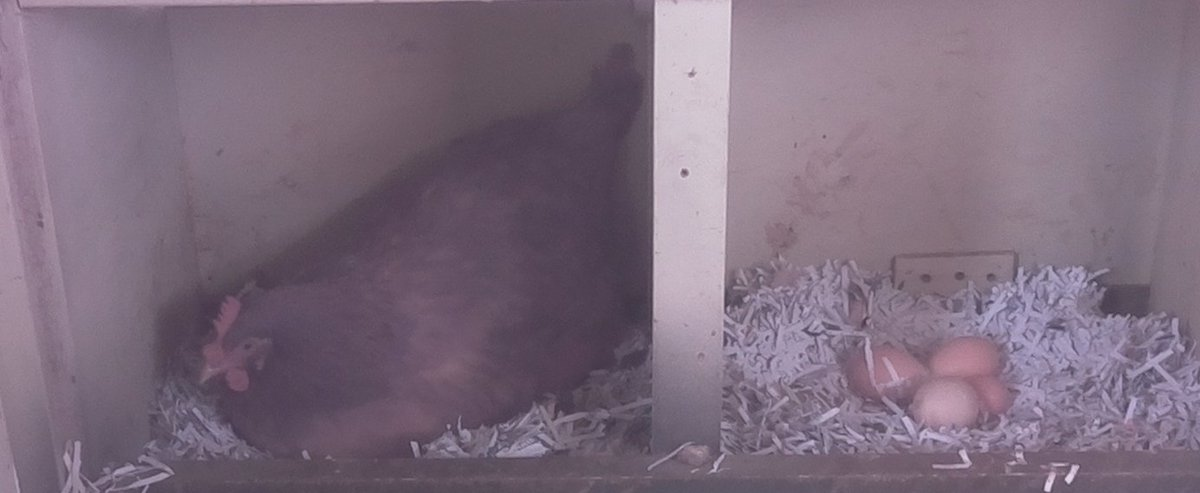egg: (845, 337, 934, 409), (905, 370, 986, 439), (920, 332, 1014, 387), (958, 366, 1020, 422)
hen: (177, 36, 646, 453)
